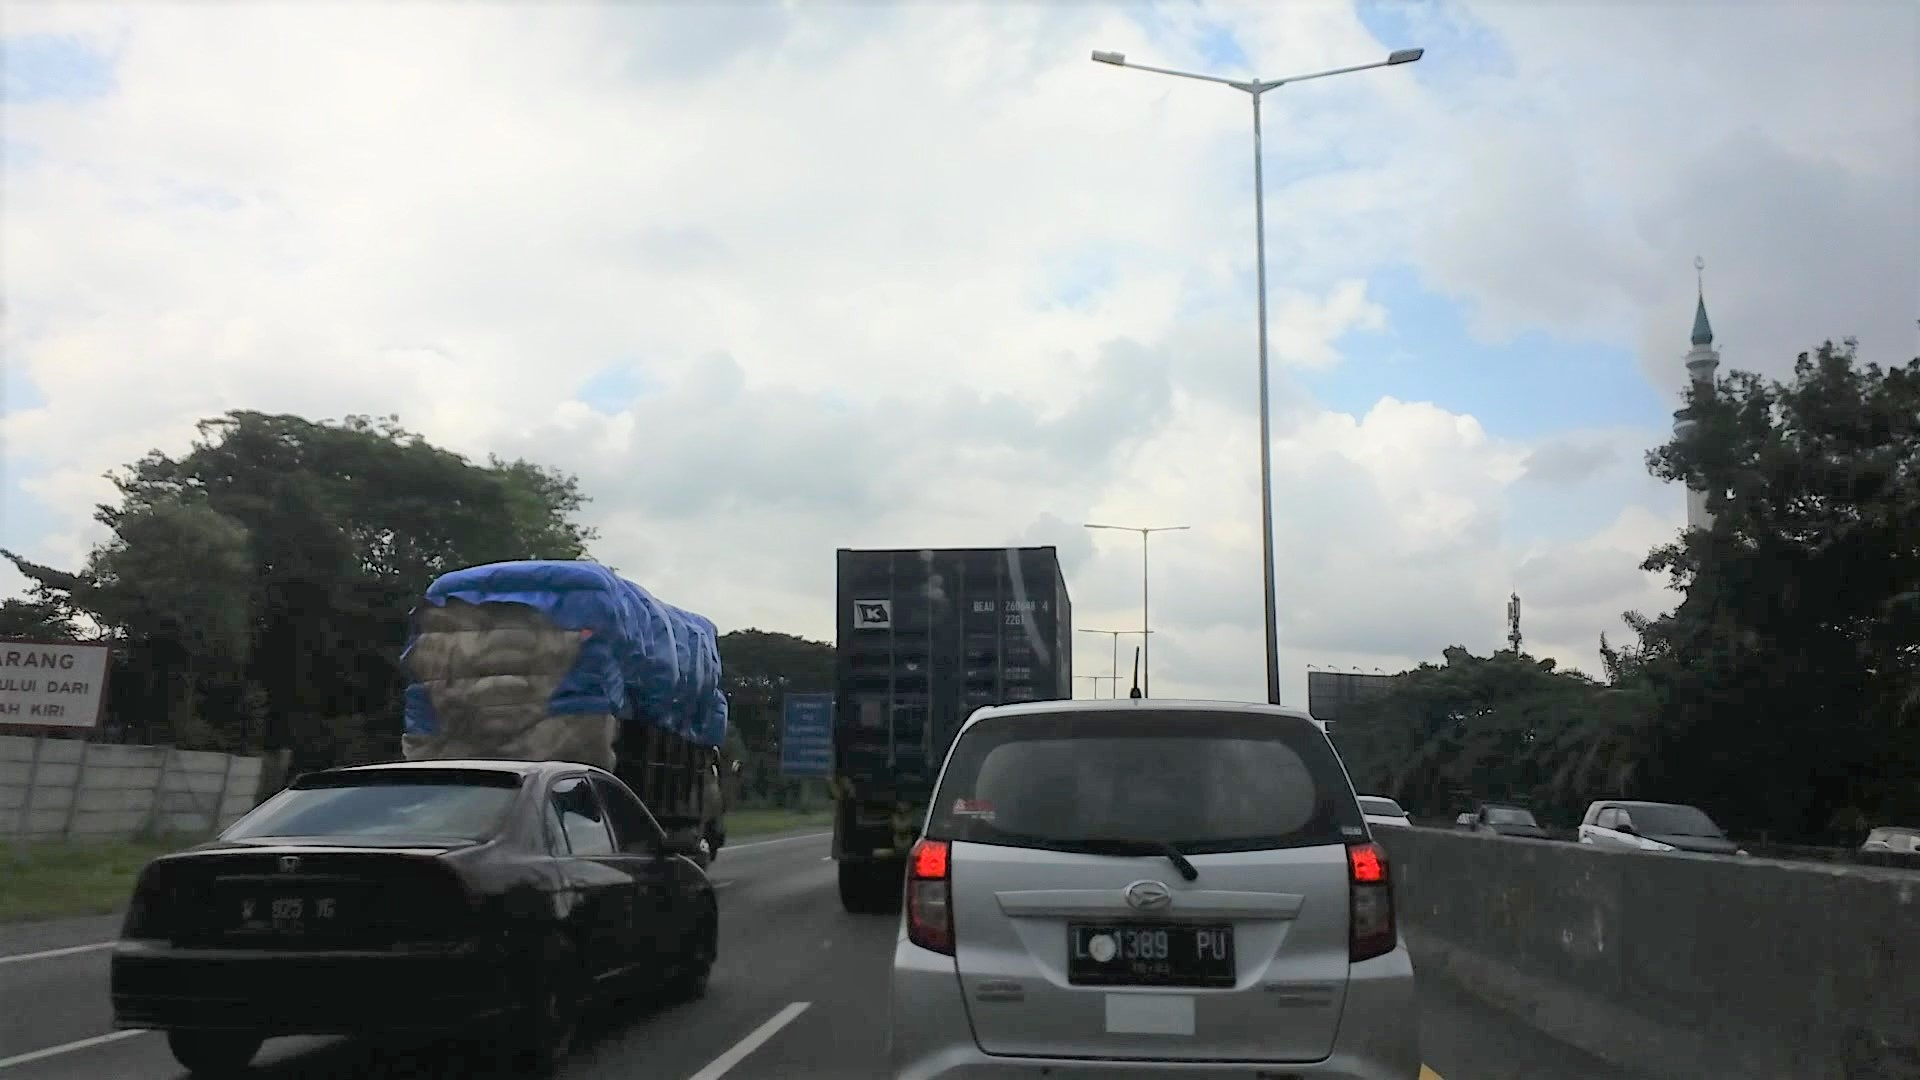plate_positive: (1067, 923, 1236, 988)
